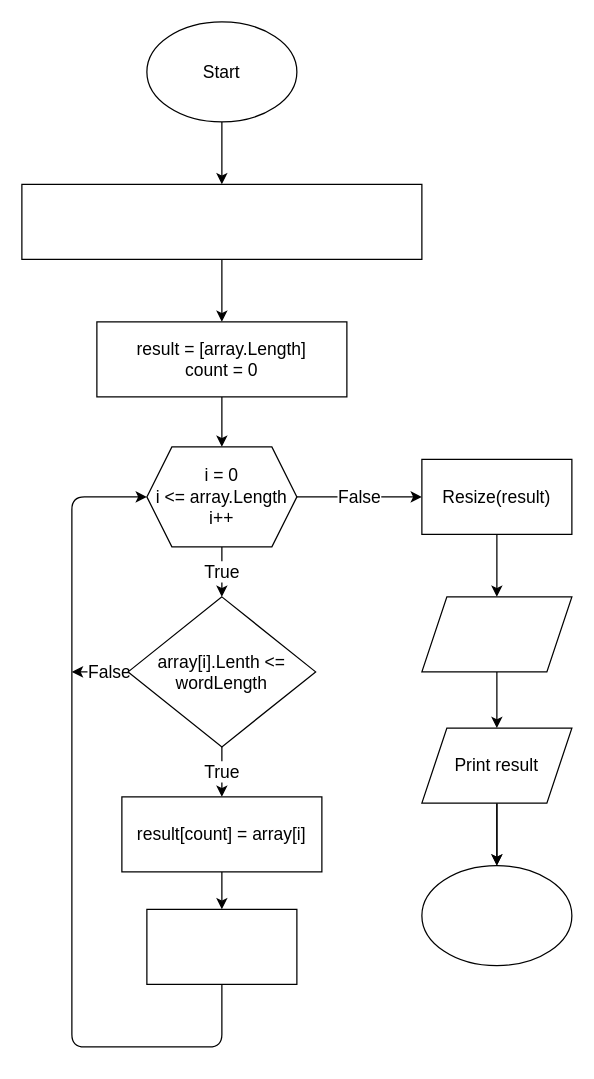
Some shapes in this 594 by 1079 pixel diagram are drawn without their labels. Each missing label, with the centre of its shape:
array1 = {"Hello", "2", "world", ":-)", "123"} wordLength = 3: (221,221)
count ++: (221,946)
End: (496,915)
Print array1: (496,634)
